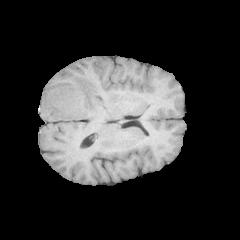glioma: (44, 75, 103, 120)
